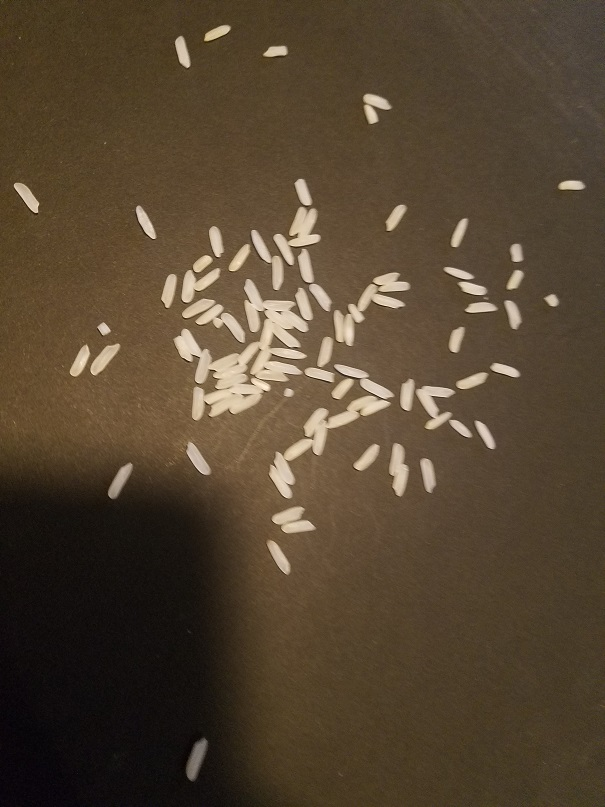egg: (181, 734, 211, 782), (90, 342, 123, 377), (183, 441, 214, 477), (107, 461, 134, 501), (265, 538, 291, 577), (265, 464, 293, 499), (12, 182, 41, 214), (270, 450, 295, 487), (301, 407, 329, 438), (133, 205, 157, 241), (220, 312, 247, 344), (250, 229, 274, 264), (352, 444, 380, 474), (181, 296, 217, 319), (271, 234, 296, 267), (207, 396, 244, 418), (415, 388, 440, 420), (282, 438, 315, 462), (269, 323, 300, 348), (416, 457, 436, 495), (244, 278, 266, 312), (159, 273, 179, 310), (358, 379, 395, 399), (68, 345, 91, 377), (192, 266, 221, 291), (502, 299, 524, 331), (295, 287, 315, 322), (308, 284, 333, 312), (384, 203, 408, 232), (208, 352, 241, 373), (228, 244, 251, 274), (356, 282, 379, 312), (474, 420, 497, 450), (325, 411, 361, 430), (271, 505, 305, 525), (449, 217, 470, 249), (333, 362, 370, 380), (387, 441, 406, 476), (392, 463, 411, 498), (280, 518, 319, 535), (297, 208, 319, 238), (297, 248, 315, 284), (371, 293, 407, 311), (250, 348, 273, 376), (264, 360, 304, 376), (264, 309, 294, 330), (453, 373, 490, 390), (280, 312, 311, 332), (229, 397, 261, 416), (181, 328, 201, 358), (331, 378, 355, 403), (447, 323, 467, 353), (174, 35, 191, 70), (172, 336, 194, 363), (449, 419, 476, 441), (399, 376, 415, 413), (293, 177, 313, 206), (244, 301, 261, 335), (316, 336, 334, 368), (196, 304, 222, 326), (212, 365, 250, 380), (423, 411, 453, 430), (360, 93, 393, 110), (208, 225, 225, 258), (489, 362, 522, 379), (312, 422, 328, 457), (194, 348, 209, 385), (237, 341, 260, 365), (288, 207, 307, 236), (181, 269, 197, 303), (285, 234, 321, 249), (420, 384, 456, 399), (272, 346, 307, 361), (203, 24, 231, 42), (271, 255, 285, 291), (203, 389, 231, 407), (346, 396, 377, 412), (457, 281, 488, 297), (361, 400, 390, 417), (332, 309, 346, 344), (304, 368, 336, 383), (506, 268, 525, 293), (214, 377, 250, 390), (191, 386, 204, 421), (443, 267, 475, 281), (258, 324, 274, 351), (372, 270, 400, 285), (464, 302, 499, 314), (556, 179, 588, 192), (261, 300, 295, 312), (261, 44, 288, 59), (192, 254, 213, 273), (229, 384, 265, 395), (347, 301, 365, 323), (379, 280, 411, 292), (255, 371, 289, 382), (343, 313, 354, 347), (509, 242, 525, 264), (363, 104, 380, 124), (247, 376, 270, 390), (543, 293, 562, 307), (96, 322, 112, 336), (213, 318, 223, 330), (282, 388, 294, 398)
